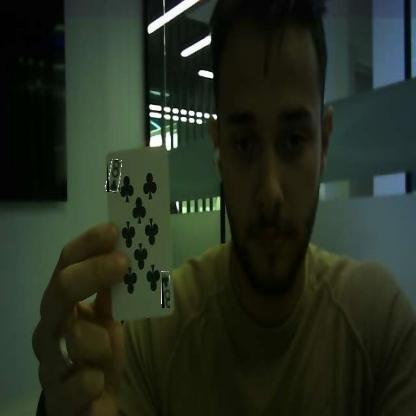8C: (107, 160, 121, 192), (162, 271, 170, 308)
